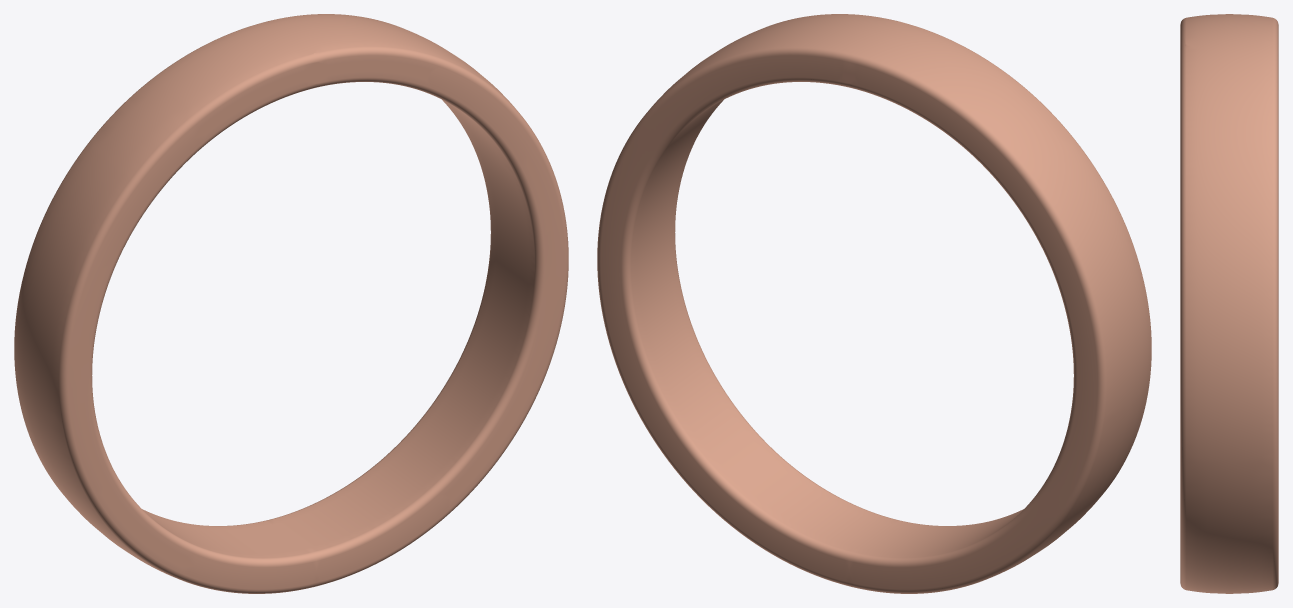
File: Andrew_dia_blendernostone.glb
3 renders of one model, left to right at view 1: azimuth 30°, elevation 25°; view 2: azimuth 150°, elevation 25°; view 3: azimuth 270°, elevation 25°, orthographic. The views are drawn at different scales.
Visible parts, largest first — view 1: Andrew RG for 3d model; view 2: Andrew RG for 3d model; view 3: Andrew RG for 3d model.
Boxes of the visible parts, left/top/right/bottom form: Andrew RG for 3d model: left=14, top=14, right=568, bottom=593; Andrew RG for 3d model: left=597, top=14, right=1151, bottom=593; Andrew RG for 3d model: left=1180, top=14, right=1278, bottom=593.
Size of the model in its own units: 24.25 by 24.25 by 4.1.
